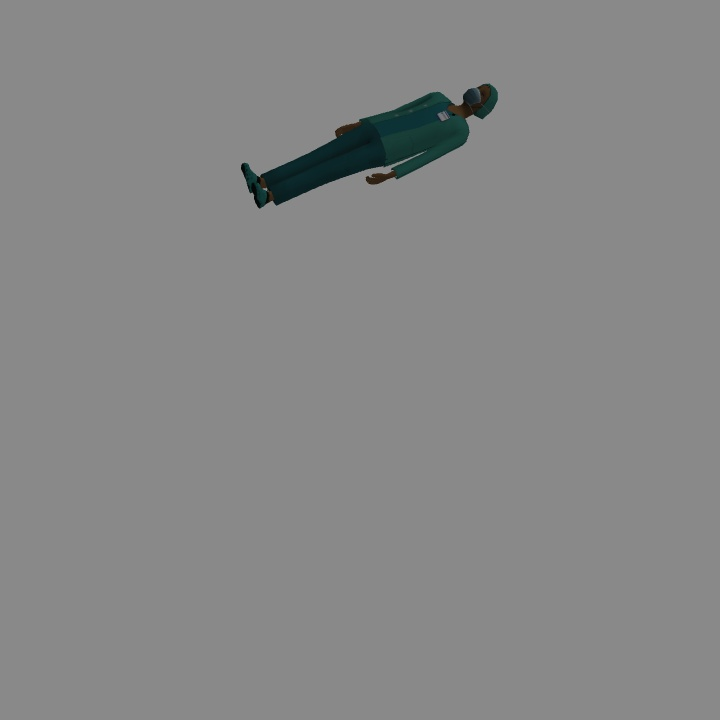victim: (246, 84, 500, 207)
